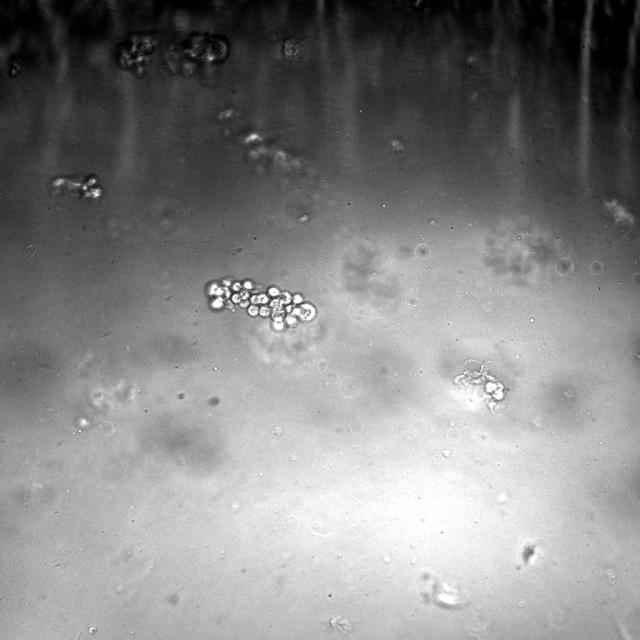organoid: (203, 273, 317, 334), (238, 128, 315, 192), (164, 32, 230, 86), (453, 359, 510, 415), (116, 32, 157, 76), (49, 173, 102, 201), (281, 37, 308, 62), (520, 540, 541, 567), (218, 105, 241, 120), (222, 128, 233, 139)
